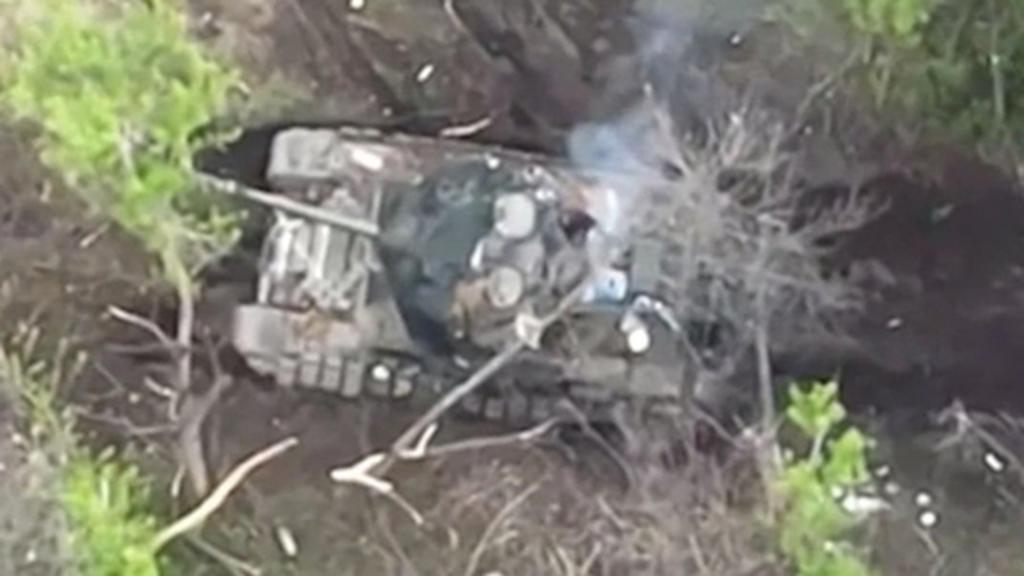TANK: (178, 106, 786, 426)
